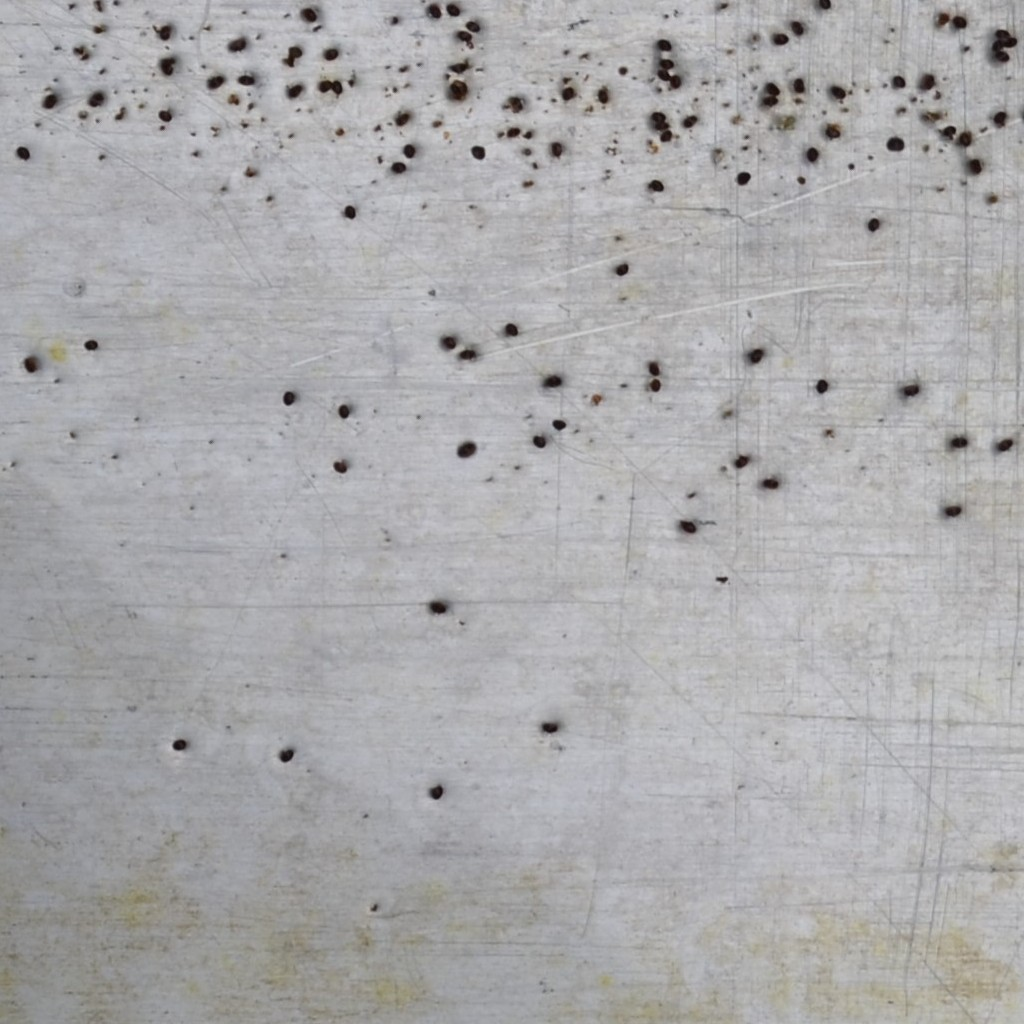varroa: (455, 435, 476, 462), (678, 516, 698, 538), (885, 133, 905, 154), (389, 157, 409, 178), (158, 54, 178, 75), (612, 256, 631, 278), (428, 781, 444, 806), (469, 142, 489, 162), (206, 73, 225, 94), (747, 347, 767, 366), (298, 4, 317, 24), (457, 346, 478, 364), (919, 69, 935, 92), (542, 370, 562, 388), (41, 93, 59, 113), (550, 415, 569, 433), (170, 735, 187, 755), (287, 81, 304, 101), (332, 456, 348, 477), (550, 138, 565, 160), (23, 354, 38, 376), (943, 501, 961, 519), (735, 168, 753, 186), (227, 36, 245, 54), (764, 78, 781, 97), (733, 454, 750, 473), (430, 598, 447, 617), (655, 36, 674, 53), (281, 388, 298, 407), (15, 143, 32, 162), (82, 336, 99, 355), (805, 144, 821, 164), (996, 437, 1013, 455), (540, 720, 558, 737), (682, 112, 700, 129), (323, 45, 340, 63), (158, 24, 175, 42), (951, 13, 967, 32), (790, 75, 806, 94), (156, 107, 175, 123), (465, 16, 480, 36), (343, 201, 357, 222), (902, 382, 919, 399), (761, 476, 778, 493), (967, 157, 983, 175), (532, 431, 547, 450), (451, 81, 463, 104), (647, 361, 663, 378), (658, 55, 675, 71), (958, 129, 973, 147), (656, 67, 671, 85), (279, 747, 294, 765), (815, 377, 829, 396), (505, 320, 518, 340), (428, 2, 441, 22), (338, 400, 351, 420), (316, 77, 332, 93), (829, 83, 846, 98), (649, 175, 666, 190), (456, 27, 473, 42), (445, 2, 460, 19), (771, 31, 789, 45), (442, 334, 456, 352), (649, 108, 668, 121), (89, 89, 102, 108), (995, 25, 1011, 40), (657, 129, 673, 144), (950, 435, 967, 449), (560, 85, 574, 102), (403, 142, 417, 159), (761, 94, 780, 106), (670, 73, 682, 92), (891, 74, 906, 89), (994, 48, 1010, 62), (993, 108, 1007, 124), (790, 19, 804, 35), (648, 377, 662, 393), (867, 216, 880, 233), (237, 73, 254, 86), (596, 86, 608, 104), (288, 44, 302, 59), (652, 118, 671, 129), (332, 79, 342, 97), (1004, 38, 1018, 49), (991, 39, 1006, 49), (815, 1, 833, 8)
